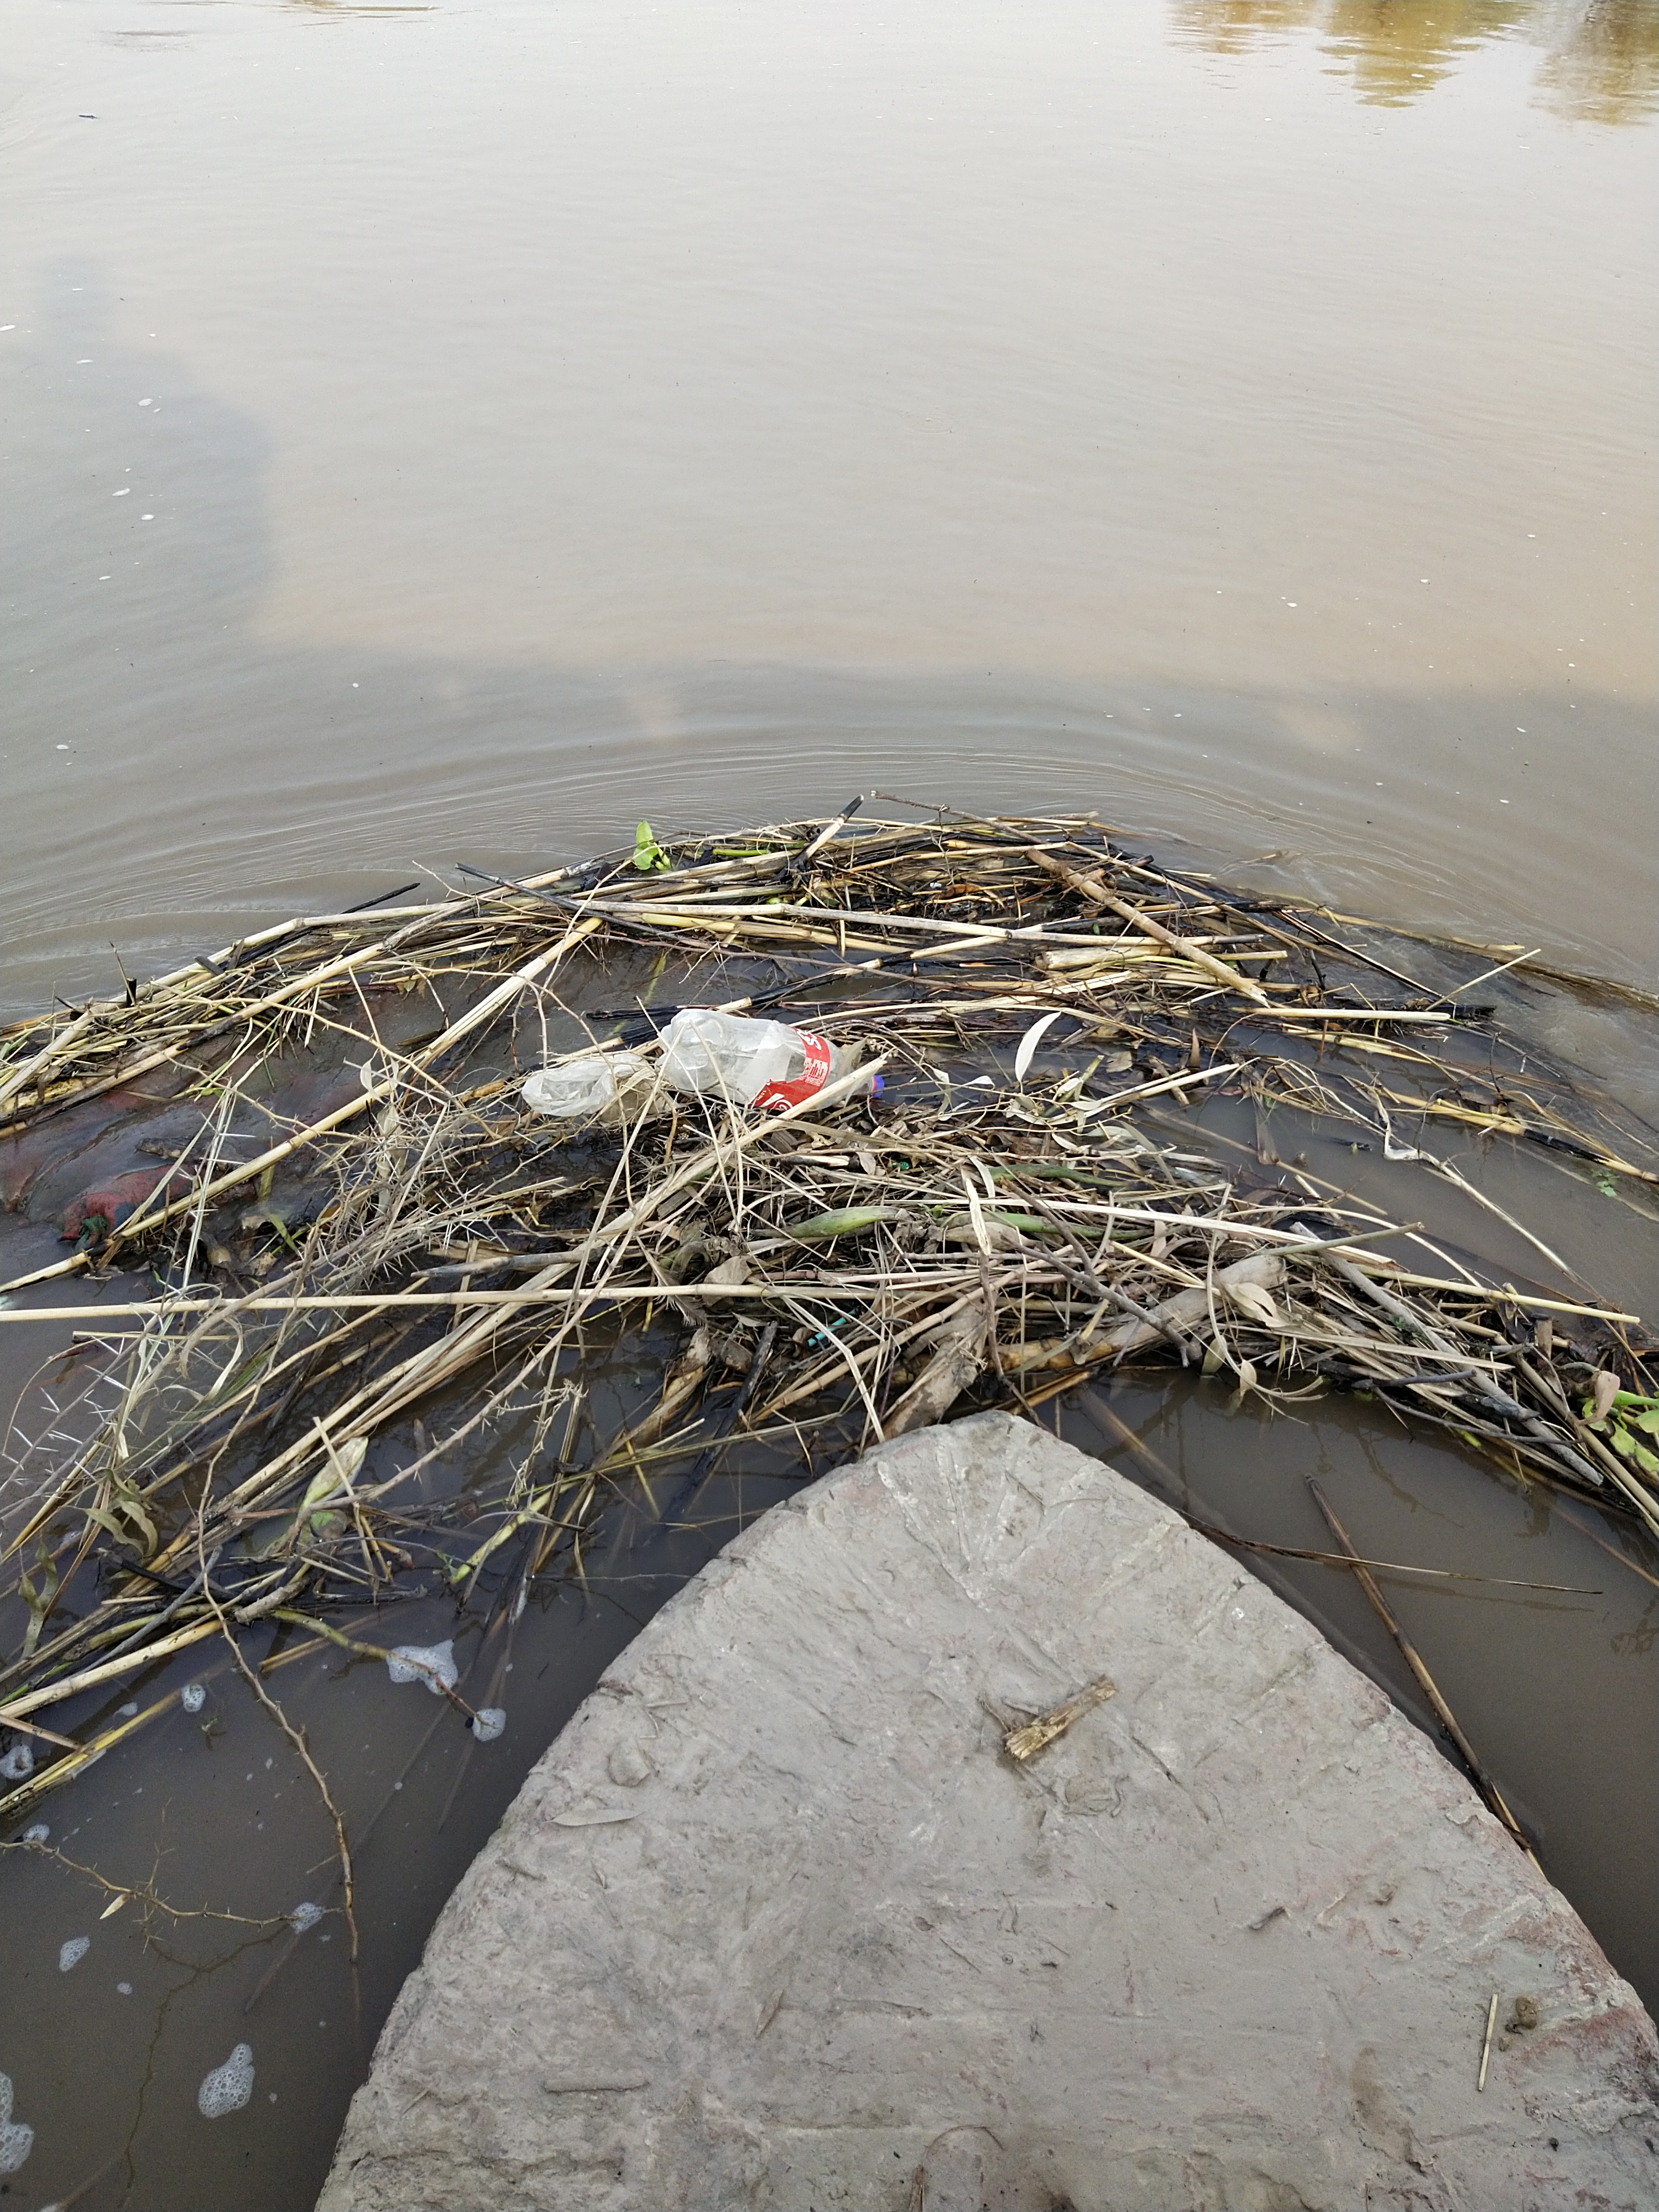Plastic Bottle: (655, 1008, 885, 1111)
